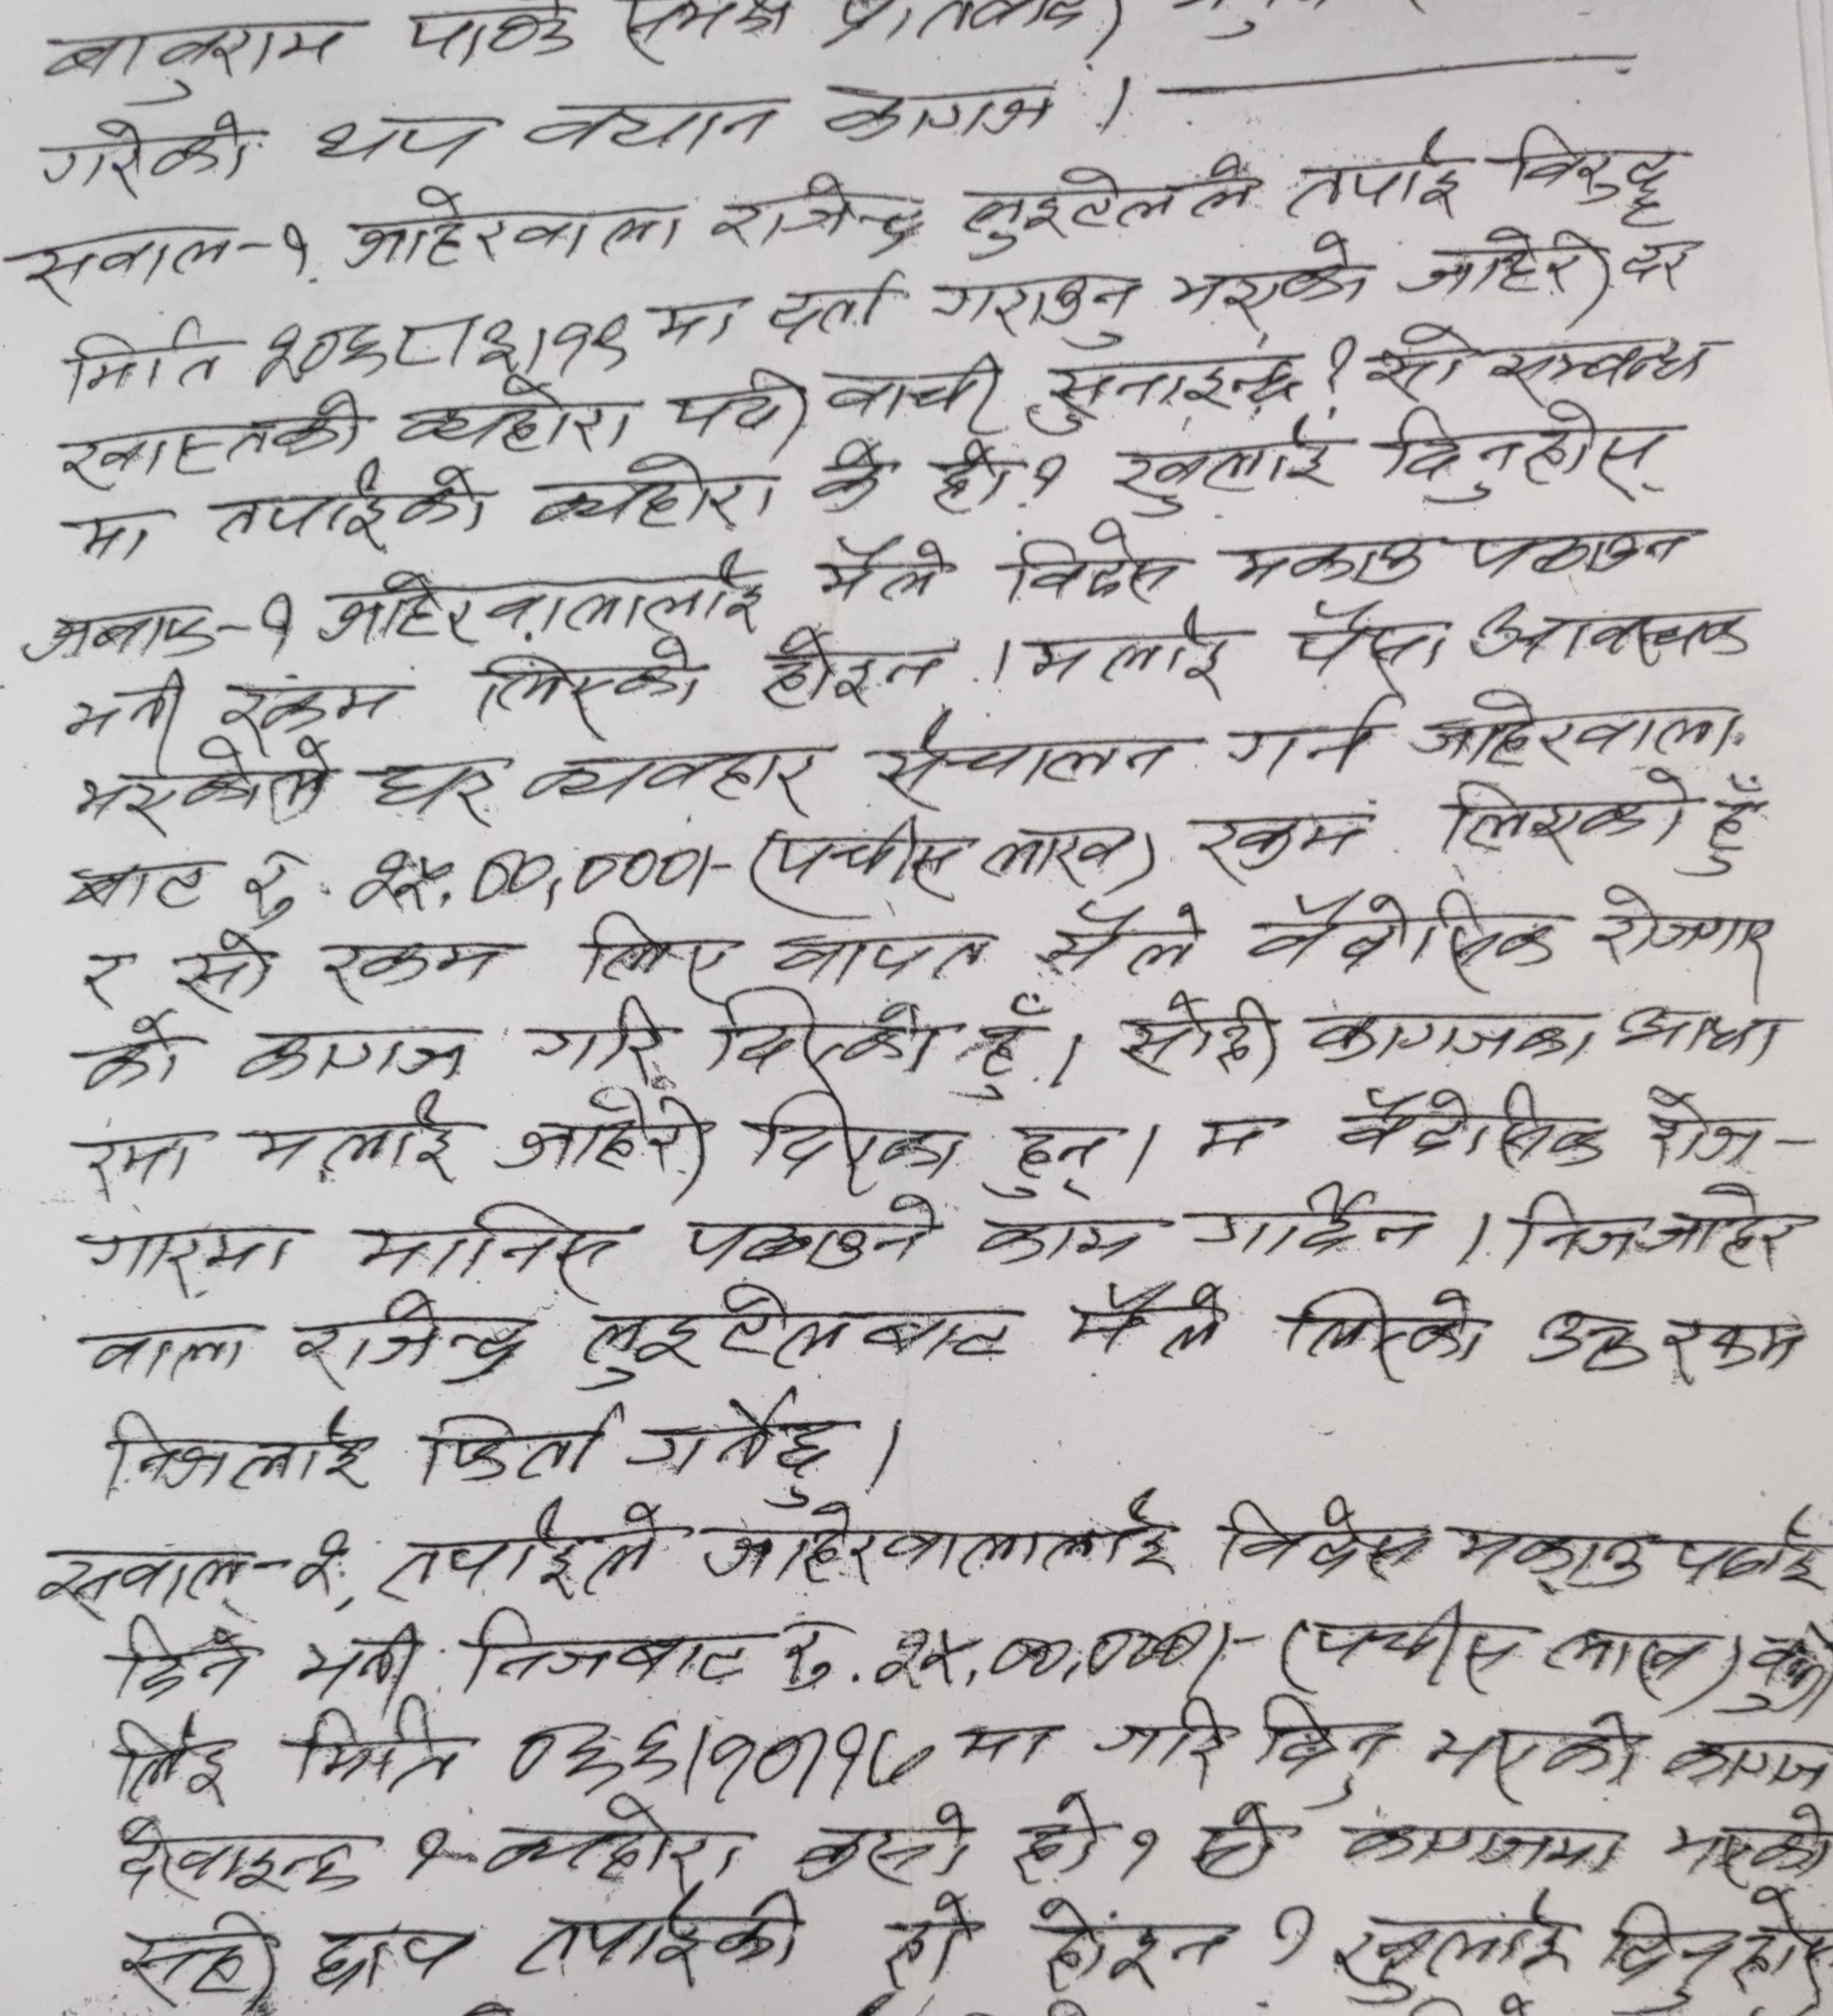text: (578, 1278, 1022, 1393), (320, 541, 771, 641), (697, 1507, 1182, 1586), (497, 1717, 938, 1802), (228, 841, 706, 915), (773, 1612, 1204, 1691), (1391, 395, 1682, 508), (952, 149, 1261, 255), (1240, 883, 1571, 980), (379, 1496, 669, 1607), (337, 181, 681, 274), (58, 386, 363, 490), (1594, 1884, 1833, 2016), (511, 1886, 804, 1991), (251, 300, 636, 379), (35, 14, 360, 107), (1364, 311, 1705, 397), (93, 1405, 379, 1507), (1413, 685, 1749, 769), (476, 1791, 755, 1891), (1327, 1886, 1577, 1997), (1025, 341, 1310, 437), (862, 720, 1187, 803), (209, 458, 492, 551), (623, 1389, 829, 1514), (464, 1602, 755, 1688), (284, 1291, 530, 1393), (1336, 1084, 1617, 1171), (702, 983, 938, 1087), (1440, 764, 1691, 860), (360, 1199, 630, 1289), (1308, 1589, 1536, 1693), (68, 748, 344, 832), (1106, 423, 1345, 518), (499, 1085, 709, 1192), (685, 1191, 945, 1277), (471, 637, 701, 734), (116, 1812, 372, 1898), (1392, 221, 1612, 320), (518, 746, 818, 817), (1029, 1893, 1241, 1991), (388, 371, 639, 453), (1215, 1491, 1433, 1586), (1305, 1001, 1598, 1071), (246, 1091, 455, 1189), (532, 453, 787, 532), (746, 1092, 962, 1185), (1594, 880, 1779, 987), (1189, 1182, 1441, 1259), (1166, 230, 1378, 321), (1513, 114, 1680, 230), (1424, 1709, 1642, 1796), (1331, 1812, 1624, 1877), (1029, 609, 1236, 701), (706, 176, 927, 260), (1471, 601, 1766, 664), (1280, 1284, 1478, 1377), (421, 1398, 616, 1489), (121, 1905, 281, 2016), (1283, 130, 1466, 227), (792, 1793, 971, 1891), (1661, 1496, 1833, 1598), (1243, 1688, 1392, 1804), (232, 1019, 485, 1085), (293, 1696, 464, 1795), (774, 818, 981, 899), (1450, 1514, 1649, 1598), (25, 1542, 248, 1616), (33, 118, 255, 191), (1636, 1180, 1808, 1275), (818, 77, 1062, 144), (21, 225, 241, 299), (1113, 989, 1283, 1084), (518, 98, 801, 155), (924, 274, 1132, 349), (1006, 516, 1189, 602), (1057, 1273, 1234, 1359), (762, 627, 945, 709), (1190, 810, 1380, 887), (825, 344, 1006, 425), (1222, 694, 1403, 774), (1034, 896, 1208, 978), (1289, 597, 1445, 688), (83, 1229, 293, 1296), (63, 313, 234, 395), (1536, 1614, 1714, 1693), (318, 934, 507, 1008), (1664, 1796, 1833, 1879), (530, 992, 674, 1085), (311, 105, 506, 174), (21, 597, 218, 664), (107, 1616, 263, 1698), (1607, 1006, 1791, 1075), (760, 925, 992, 980), (664, 365, 816, 448), (1092, 1691, 1226, 1784), (579, 911, 729, 994), (1464, 525, 1689, 580), (1220, 532, 1429, 590), (61, 666, 191, 759), (983, 813, 1136, 892), (1638, 1078, 1770, 1170), (72, 1317, 256, 1382), (304, 1921, 471, 1991), (1657, 1315, 1808, 1393), (1505, 1185, 1643, 1266), (109, 1714, 234, 1804), (767, 267, 902, 346), (981, 1120, 1108, 1205), (404, 2, 574, 63), (218, 676, 399, 732), (959, 992, 1053, 1099), (290, 1619, 423, 1695), (974, 1210, 1154, 1266), (1003, 1791, 1104, 1890), (811, 534, 950, 606), (370, 759, 507, 831), (1187, 1795, 1292, 1888), (65, 1015, 191, 1092), (1526, 1303, 1650, 1380), (874, 1890, 969, 1988), (169, 929, 277, 1013), (61, 855, 218, 913), (75, 1133, 195, 1206), (920, 437, 1013, 520), (1696, 774, 1765, 883), (808, 434, 897, 515), (68, 506, 174, 569), (952, 1714, 1067, 1770), (1183, 1105, 1289, 1166), (1619, 228, 1708, 295), (651, 293, 744, 353), (291, 1521, 356, 1602), (272, 212, 323, 286), (260, 583, 307, 662), (395, 1828, 453, 1888), (75, 941, 126, 1008)
